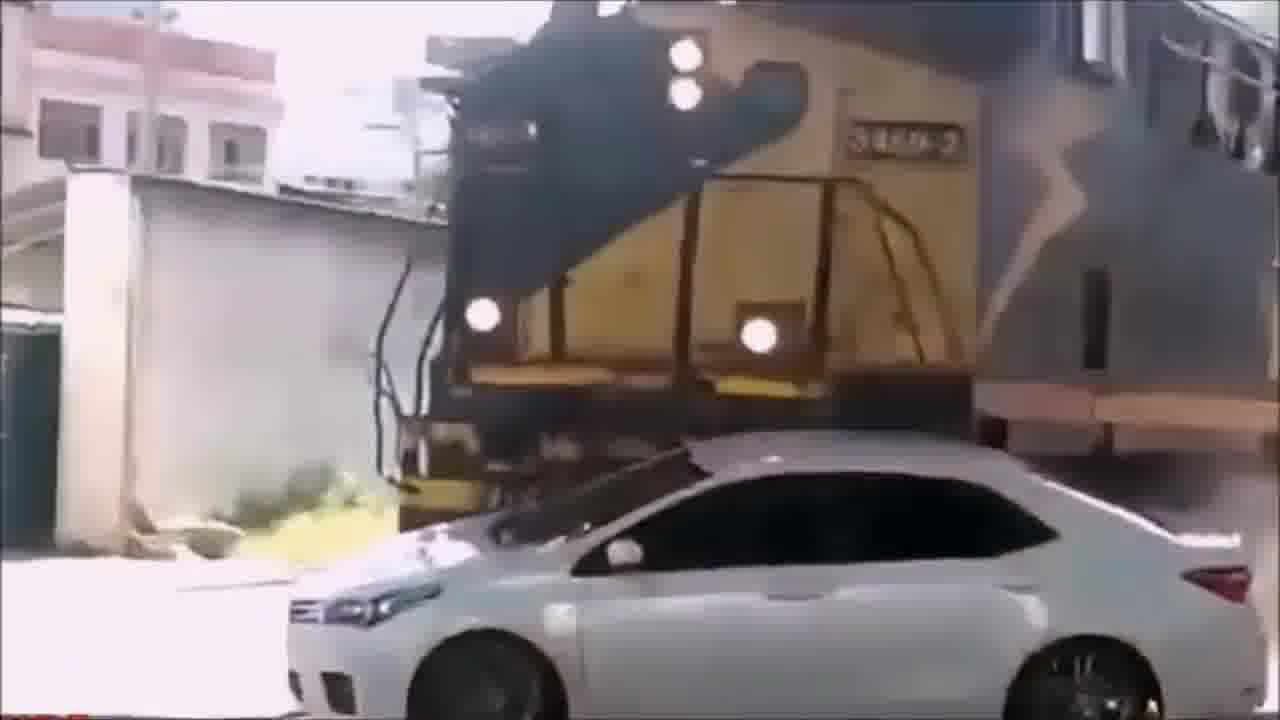crossing railway track: (229, 449, 1217, 720)
